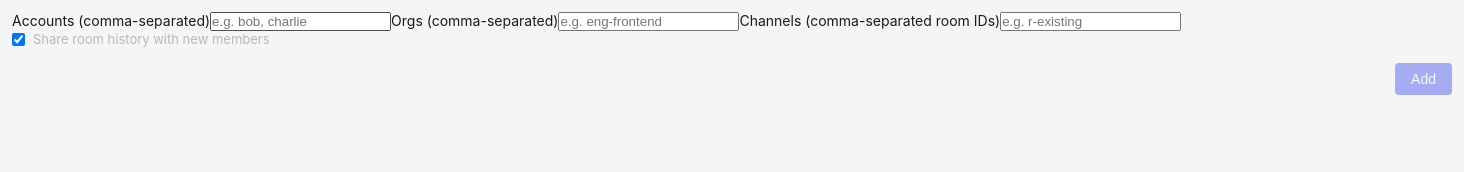
Test: AddMembersForm › shows error banner on request failure
Type "bob" into the field labelled "Accounts (comma-separated)".
click(301, 22); type("bob")  # box [210,12,391,31]
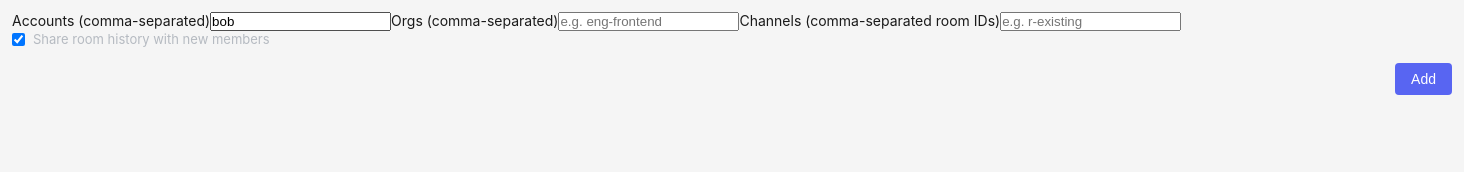
Click the button "Add".
click(1424, 79)  # box [1395,63,1452,95]
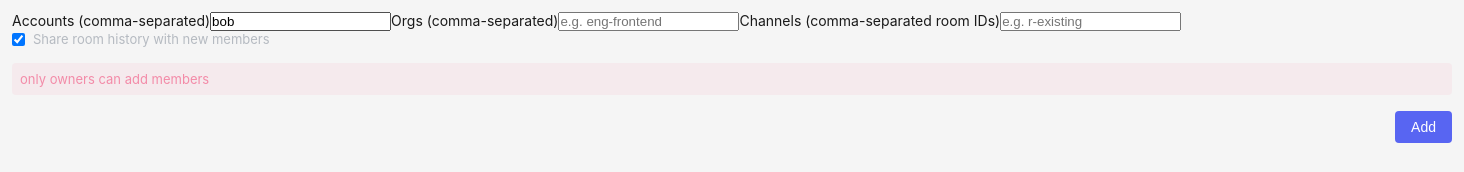
Now the text "only owners can add members" is shown, box [12,63,1452,95]
